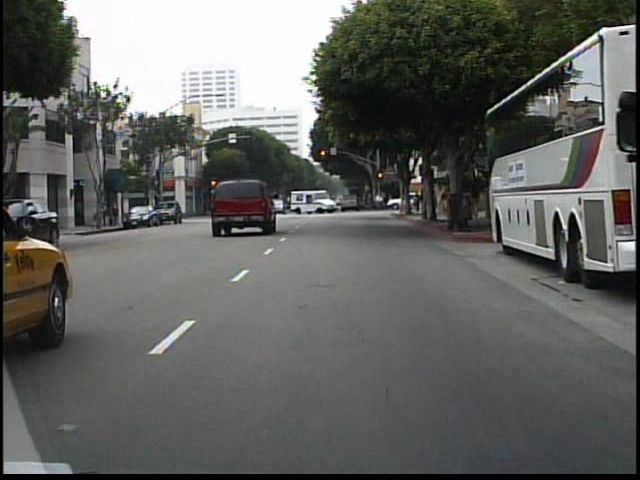person: (437, 183, 450, 220)
